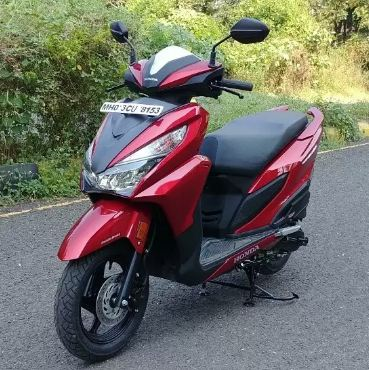bike: (55, 20, 322, 362)
